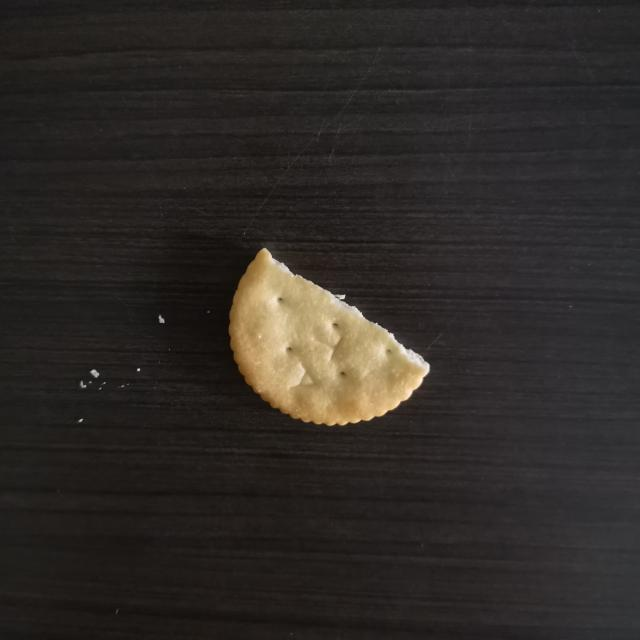Broken: (227, 246, 430, 427)
